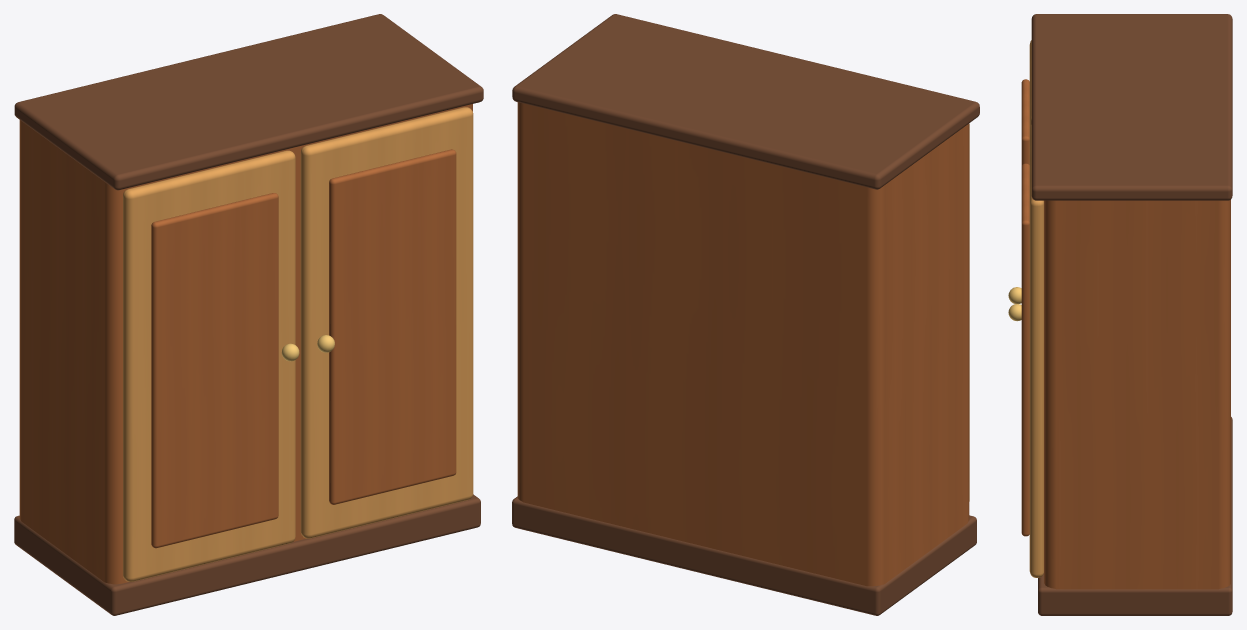
The model's file is CABINET.glb.
3 renders of one model, left to right at view 1: azimuth 30°, elevation 25°; view 2: azimuth 150°, elevation 25°; view 3: azimuth 270°, elevation 25°, orthographic. The views are drawn at different scales.
Visible parts, largest first — view 1: CABINET; view 2: CABINET; view 3: CABINET.
Boxes of the visible parts, x1,y1,x2,y2 form: CABINET: (14,14,483,615); CABINET: (512,14,979,615); CABINET: (1008,14,1232,615).
Size of the model in its own units: 0.998 by 1.14 by 0.54.
Materials: 4 (2 with a texture image).
